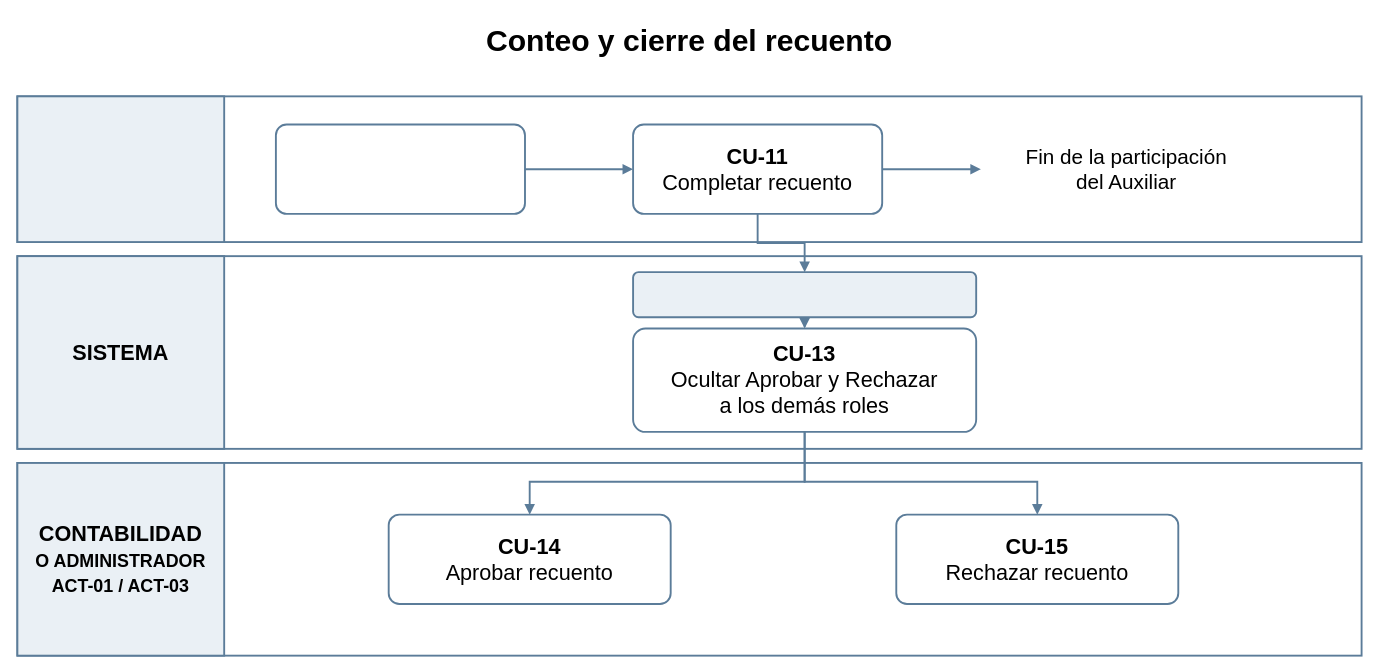
This 1378x672 diagram has some shape labels left out. The centre of each missing label's shape, as x and y in pixels:
Aprobación completada/pendiente: [804,294]
AUXILIAR DE FARMACIA ACT-02: [120,169]
CU-18 Contar desde SCM Mobile: [399,168]
